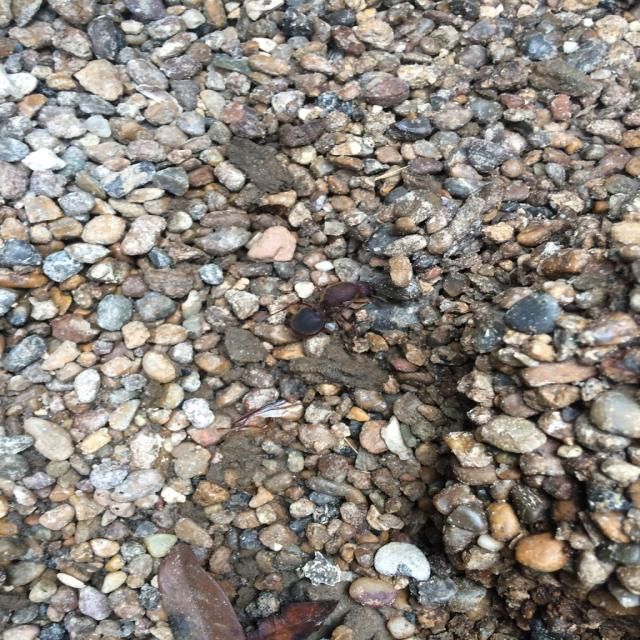Alive-Female-Dealate: (260, 275, 388, 350)
